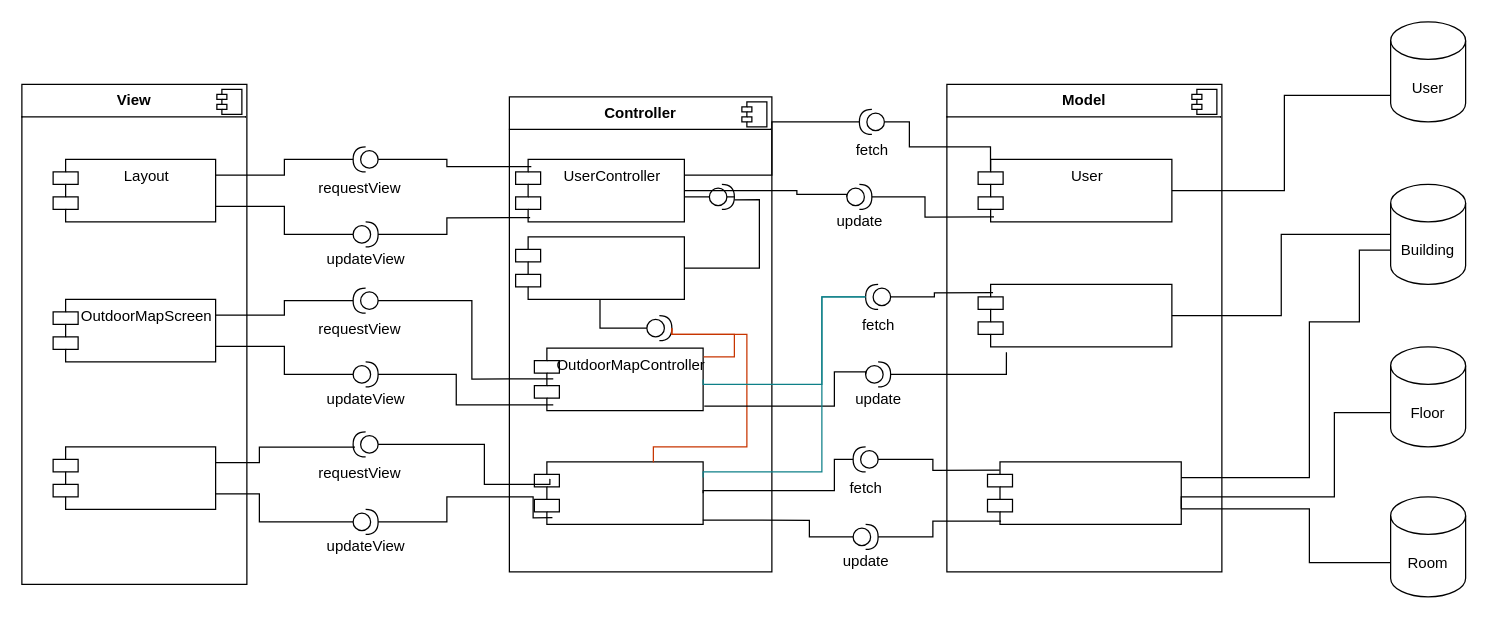
The diagram is 1488 pixels wide and 619 high, and some of its shapes have lost their labels. Here are the shapes that lost their labels. From the top down, the centre of each, then its label:
(x=599, y=267): MapsController
(x=1074, y=315): Campus Manager
(x=134, y=477): IndoorMapScreen
(x=618, y=492): IndoorMapController
(x=1083, y=492): Indoor Model
